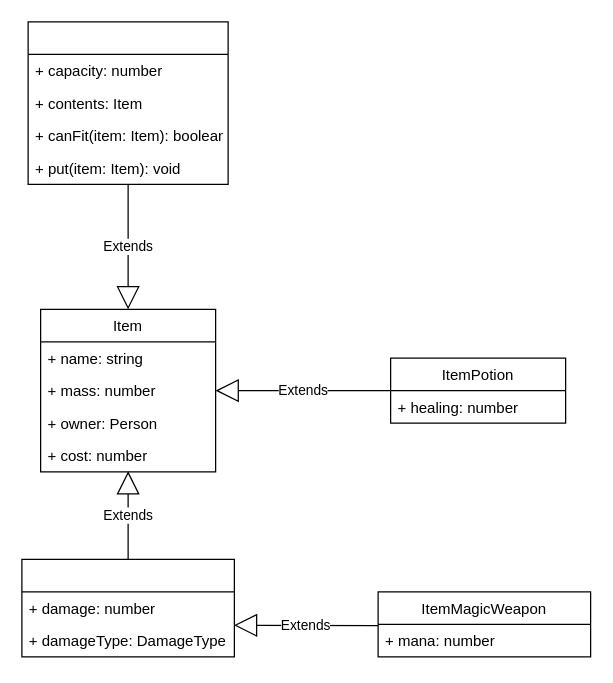
Image size: 613x683. Some labels were removed from this diagram. The box of each missing label's shape, as (x1, y1, x2, y2) in pixels:
ItemBag: (27, 21, 228, 184)
ItemMeeleWeapon: (21, 558, 234, 657)
